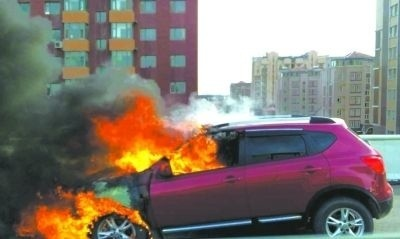fire: (16, 93, 226, 239)
